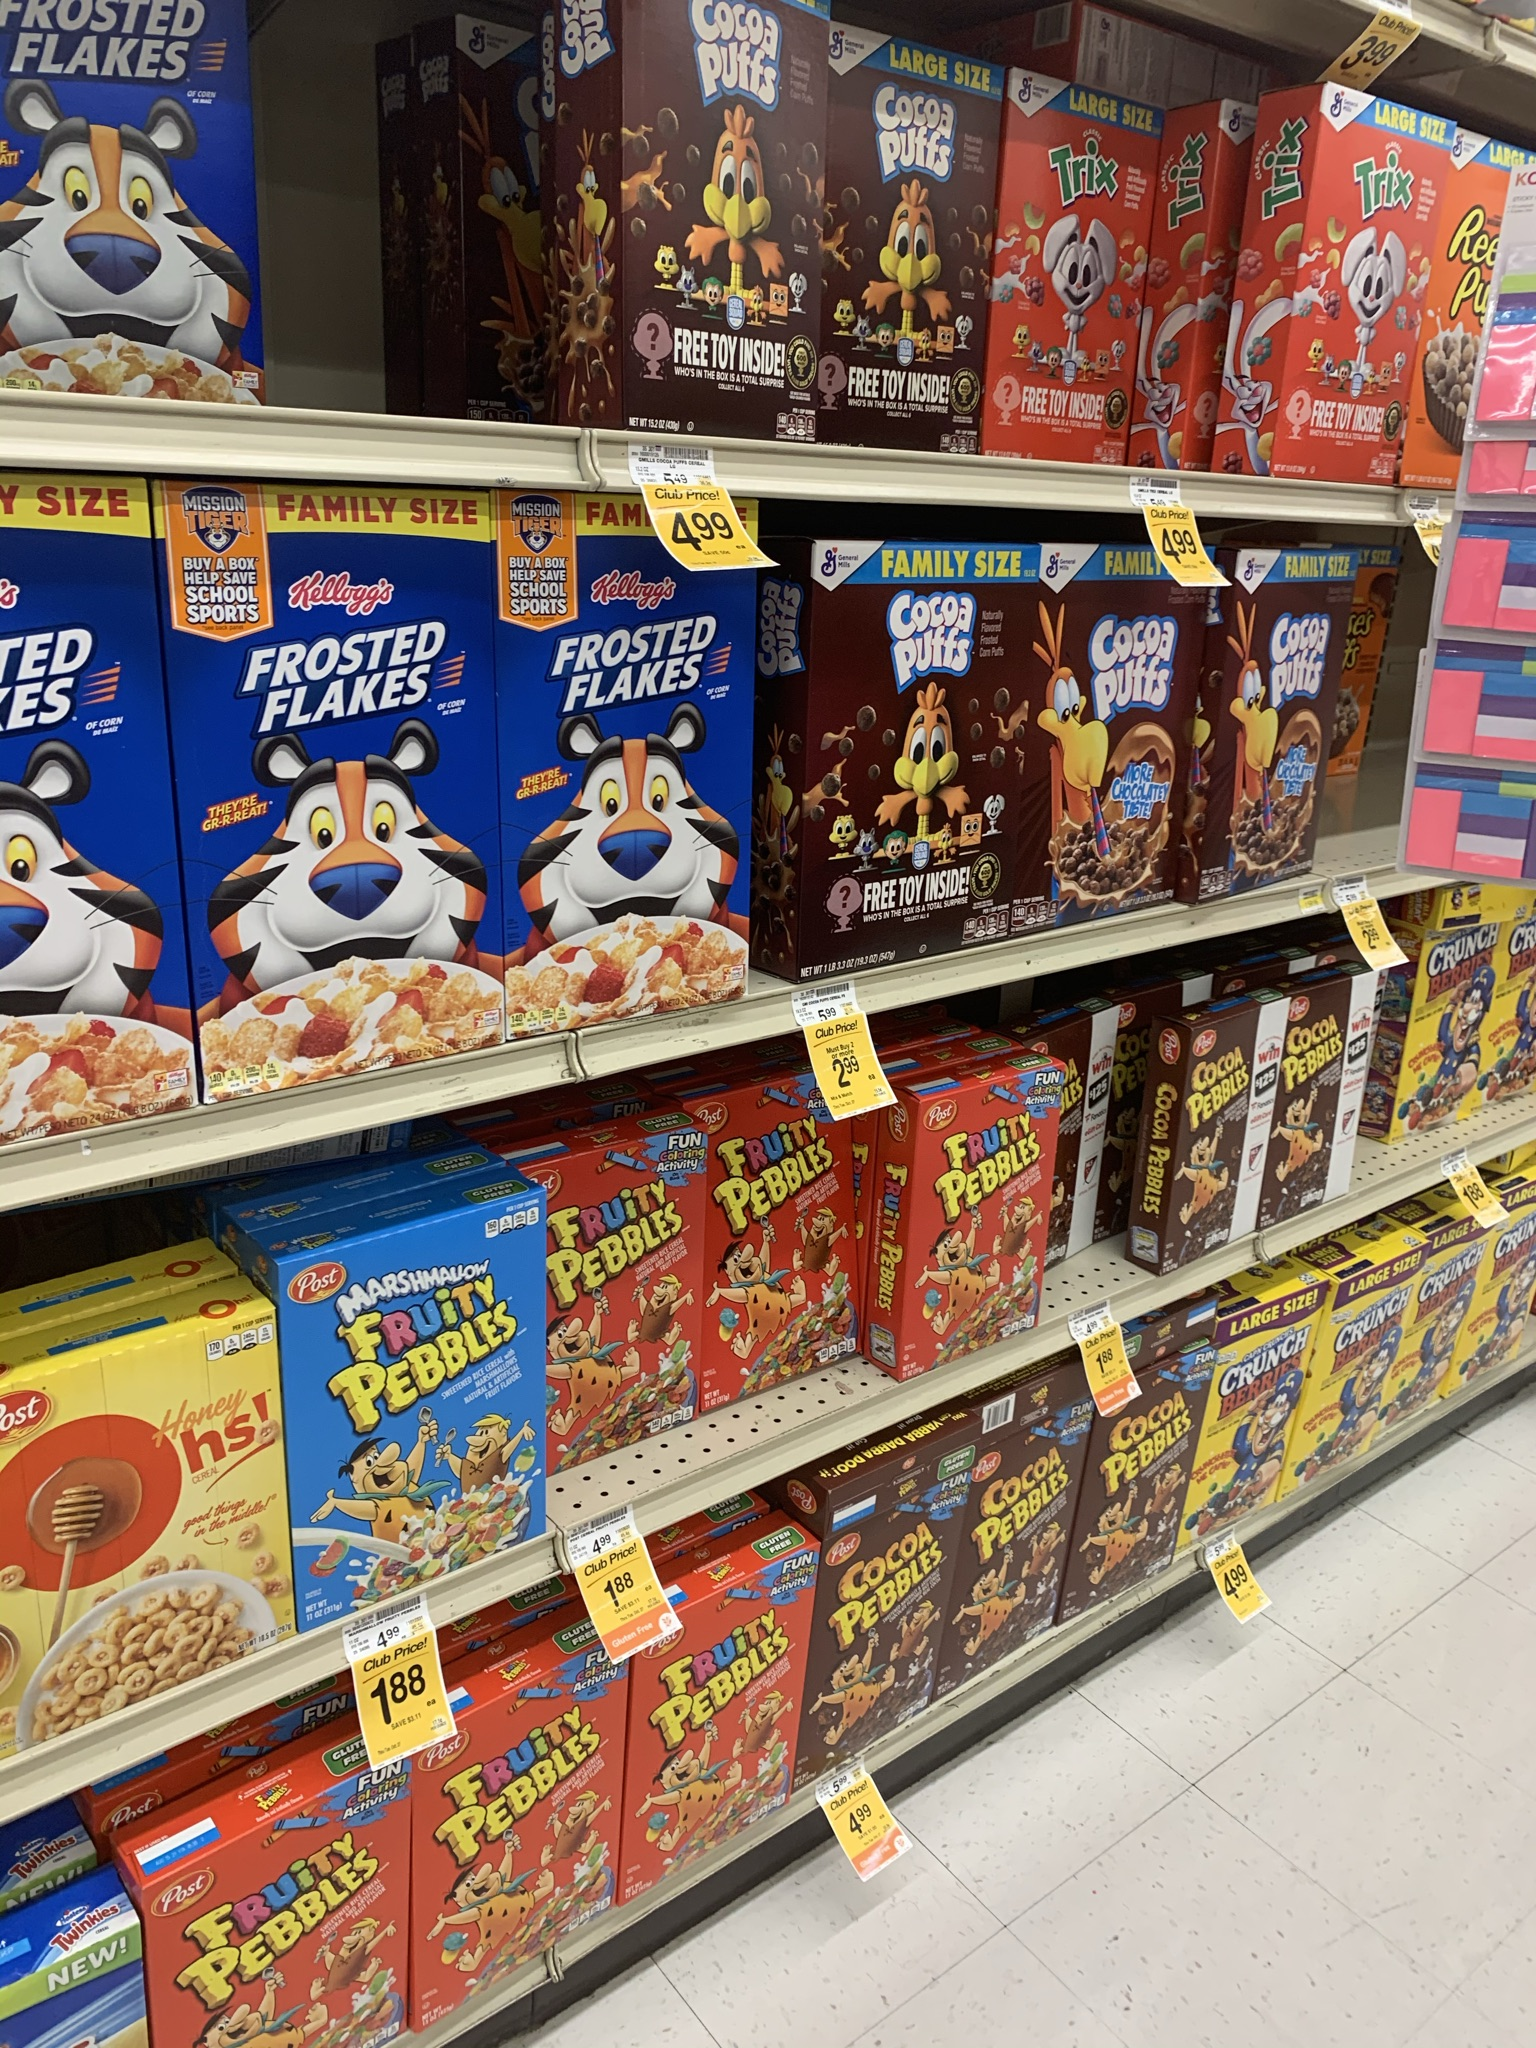cereal: (157, 476, 523, 1072), (490, 477, 757, 1001), (8, 1300, 265, 1761), (797, 532, 1050, 955), (2, 2, 263, 398), (276, 1247, 574, 1592), (618, 3, 818, 439), (2, 487, 139, 1121), (815, 27, 991, 442), (160, 1758, 387, 2048), (415, 1701, 620, 2017), (1034, 543, 1200, 921), (1010, 76, 1137, 472), (628, 1613, 805, 1888), (524, 1151, 694, 1440), (1205, 555, 1331, 900), (810, 1488, 962, 1767), (703, 1119, 858, 1387), (897, 1097, 1057, 1347), (1309, 87, 1405, 490), (949, 1419, 1062, 1675), (1291, 1230, 1400, 1484), (1063, 1374, 1176, 1614), (1163, 1018, 1252, 1279), (1218, 1292, 1305, 1535), (1249, 1006, 1342, 1206)
